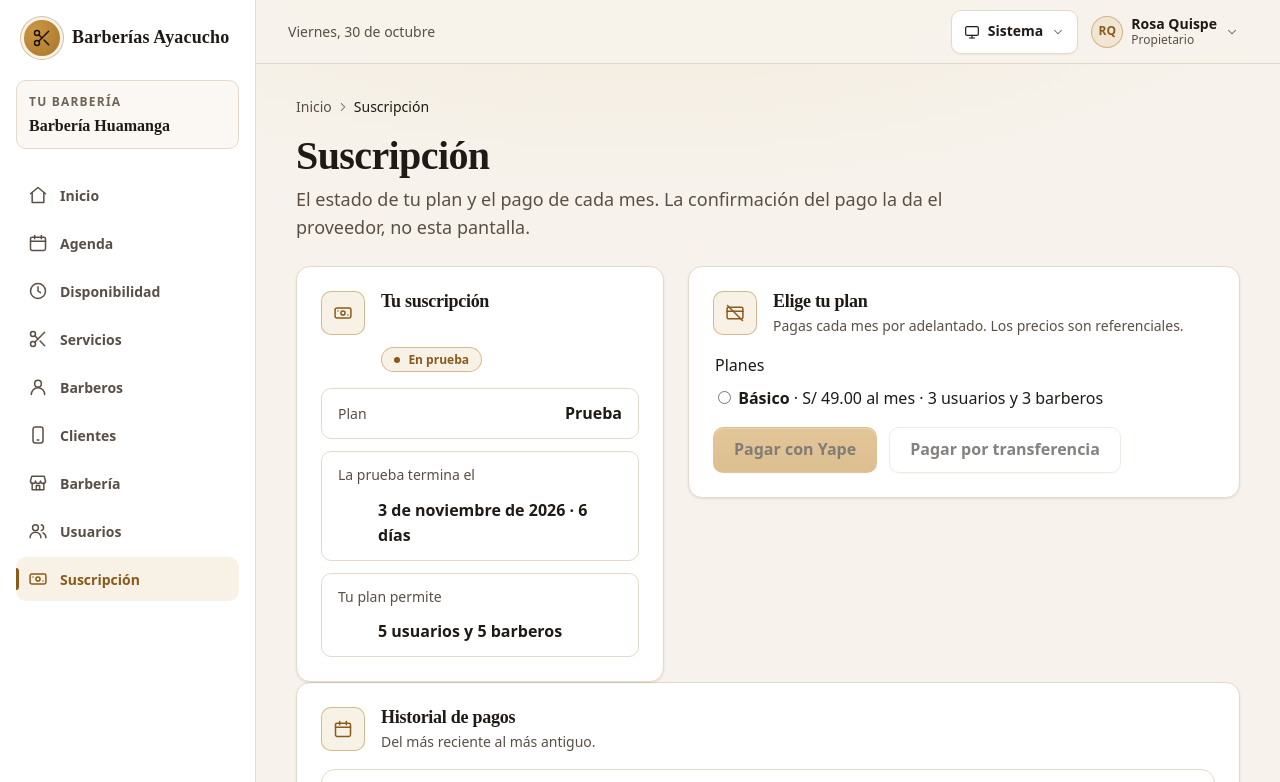
Test: Transferencia del propietario (/app/suscripcion) › elegir un plan y pagar por transferencia muestra la cuenta, el importe exacto y la referencia
Click the radio button labelled "Básico · S/ 49.00 al mes · 3 usuarios y 3 barberos". click: (724,397)
box: [718,391,731,404]
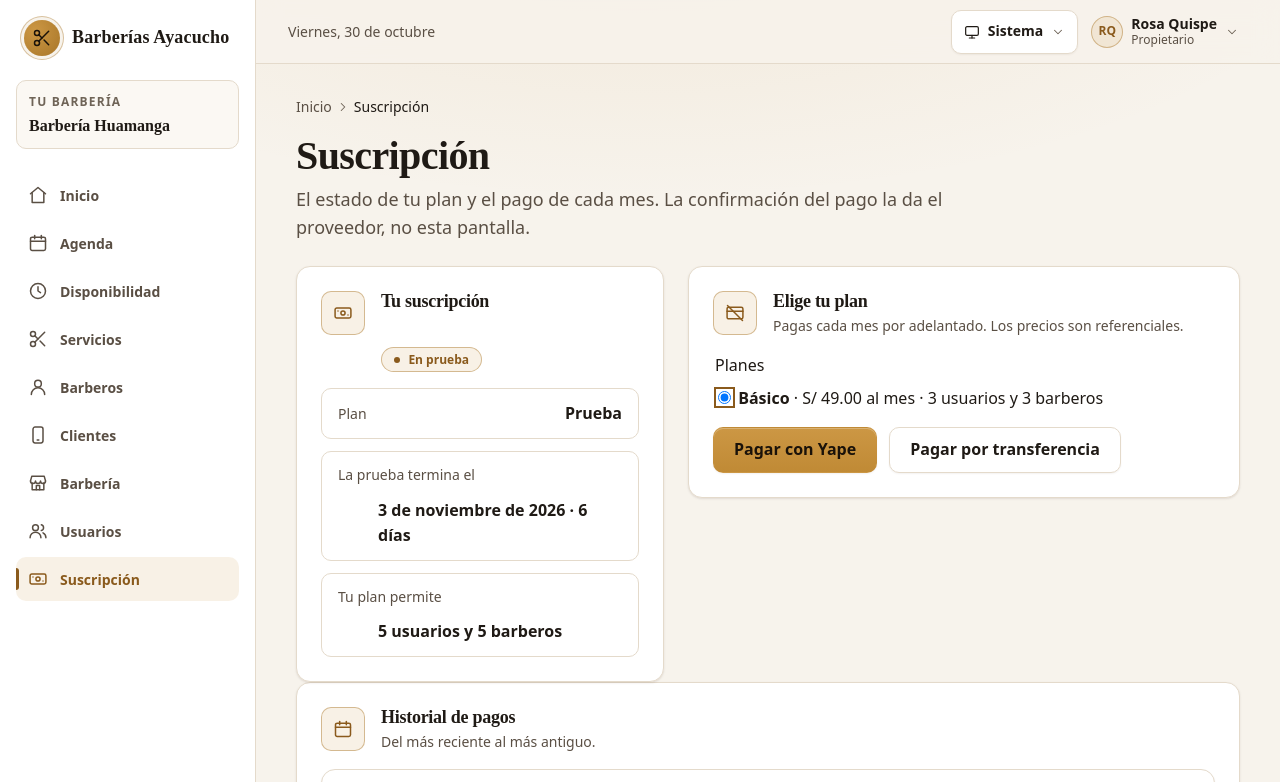
Click the button "Pagar por transferencia". click: (1005,450)
box: [889,427,1121,473]
(page scrolled)
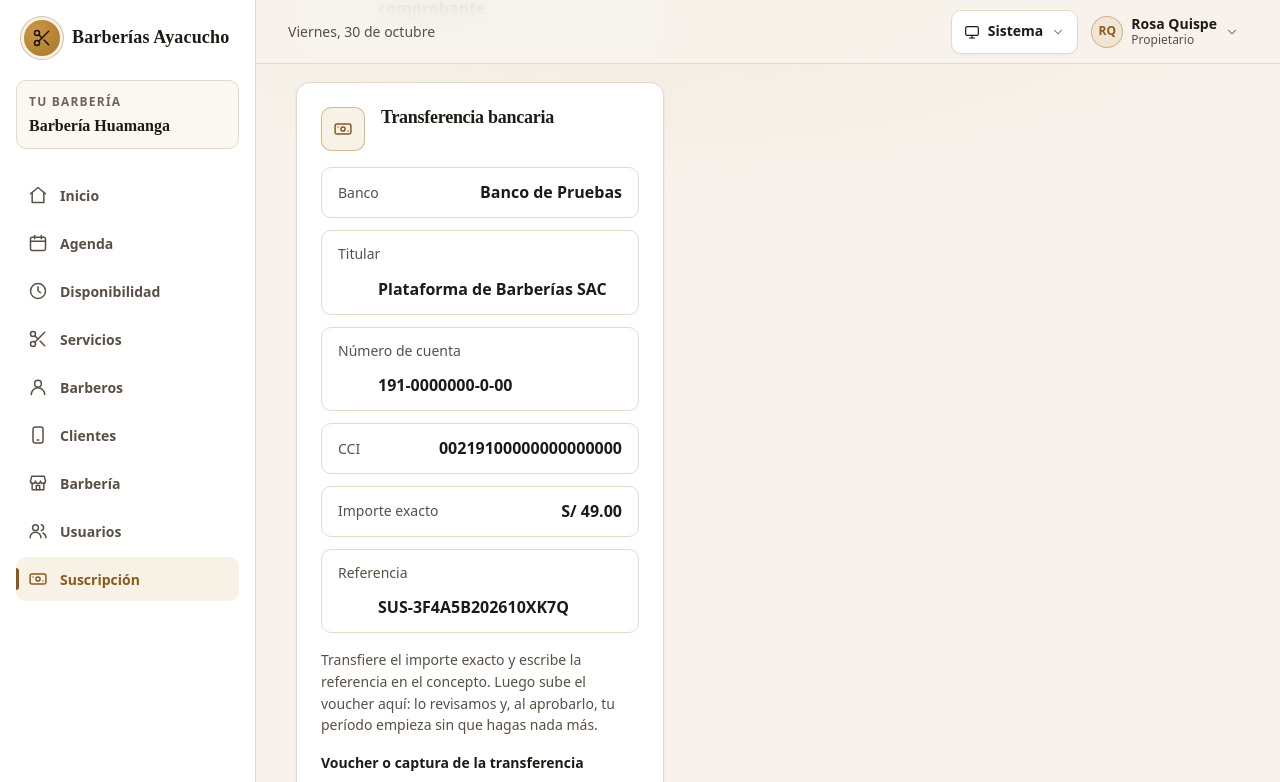
Expected: the element named "Datos de la transferencia" shows "Banco de Pruebas", [480,181,622,203]
Expected: the element named "Datos de la transferencia" shows "Plataforma de Barberías SAC", [378,278,607,300]
Expected: the element named "Datos de la transferencia" shows "191-0000000-0-00", [378,374,512,396]
